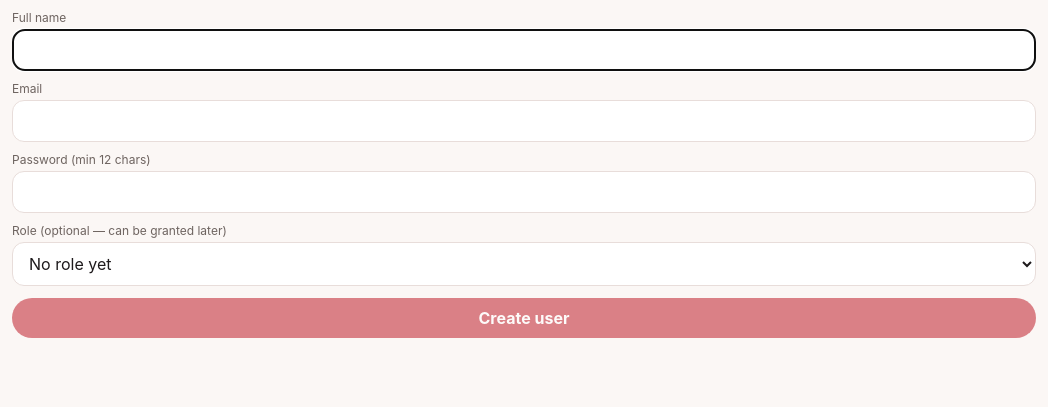
CreateForm (staff user) › shows the server message when creation is refused
The image size is (1048, 407).
Type "Dup" into the field labelled "Full name" at {"x": 524, "y": 50}, box 12,29 -> 1036,71
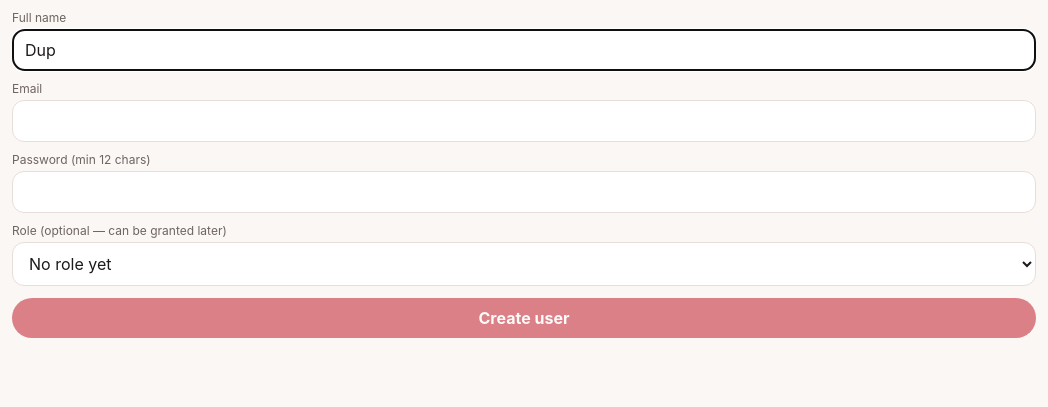
Type "dup@example.test" into the field labelled "Email" at {"x": 524, "y": 121}, box 12,100 -> 1036,142
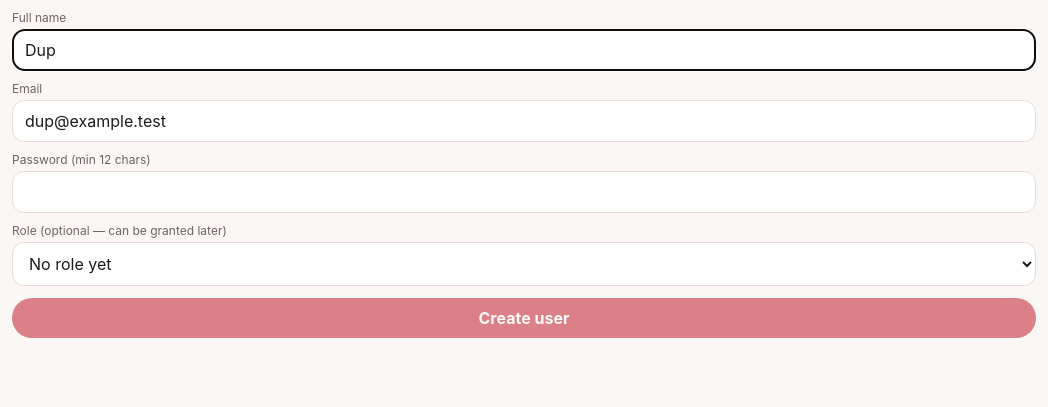
Type "a-long-enough-password" into the password field labelled "Password (min 12 chars)" at {"x": 524, "y": 192}, box 12,171 -> 1036,213
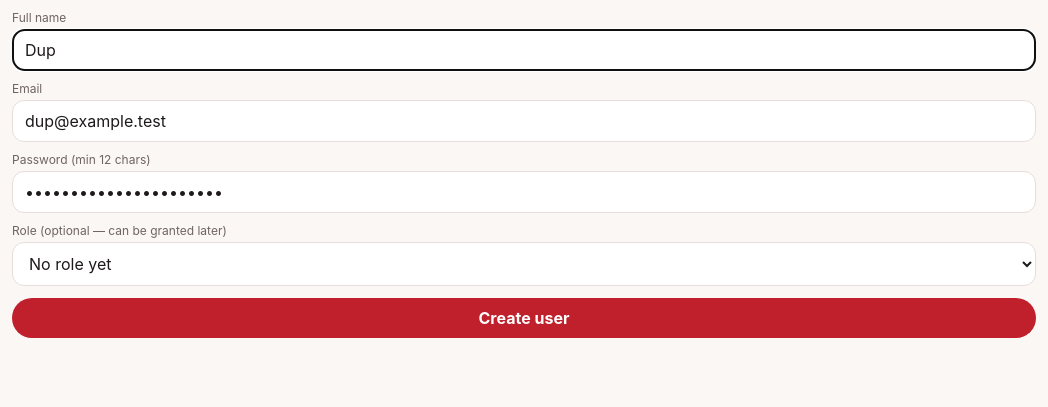
Submit the form named "create"
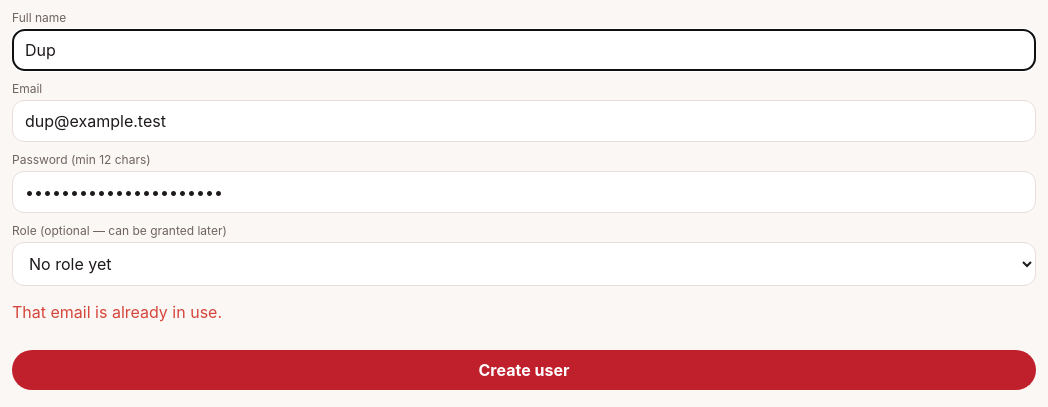
Expected: the text "That email is already in use." is shown, 12,302 -> 222,322
